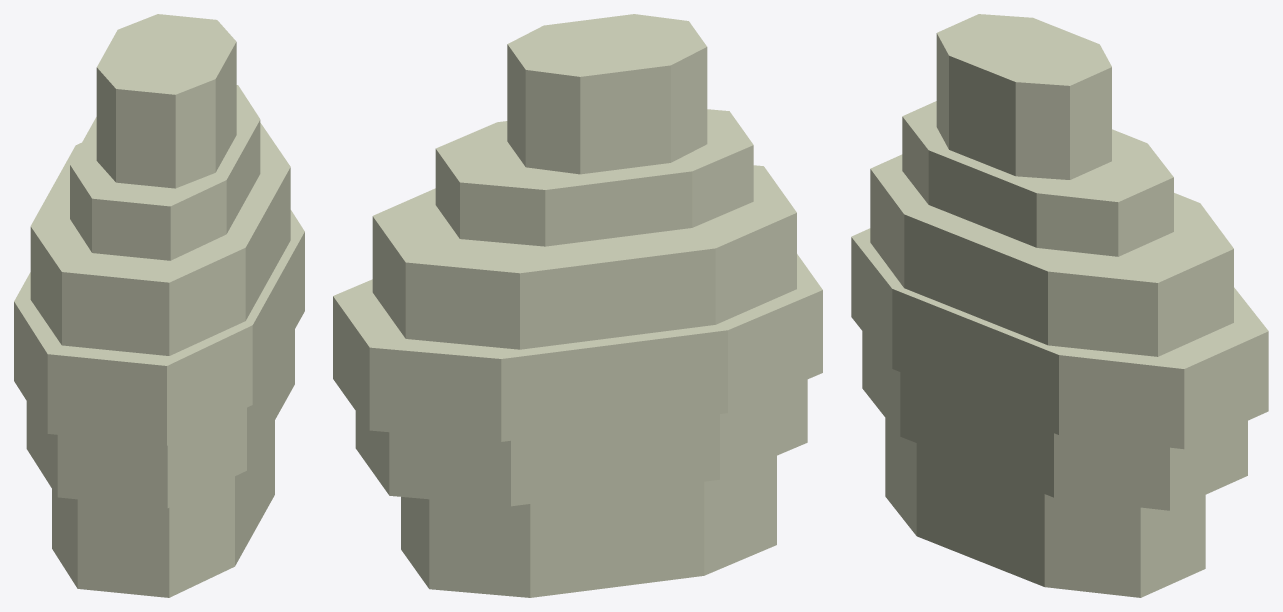
File: Roche_Haut_2.fbx
3 renders of one model, left to right at view 1: azimuth 30°, elevation 25°; view 2: azimuth 150°, elevation 25°; view 3: azimuth 270°, elevation 25°, orthographic. The views are drawn at different scales.
Parts seen in each view (by area): view 1: pCube133; view 2: pCube133; view 3: pCube133.
Part boxes in pixels (box(x1,y1,x2,y2)): pCube133: box(14, 14, 304, 597); pCube133: box(333, 14, 822, 597); pCube133: box(851, 14, 1268, 597).
Bounding box in the file's own units: 169 × 222 × 176.
